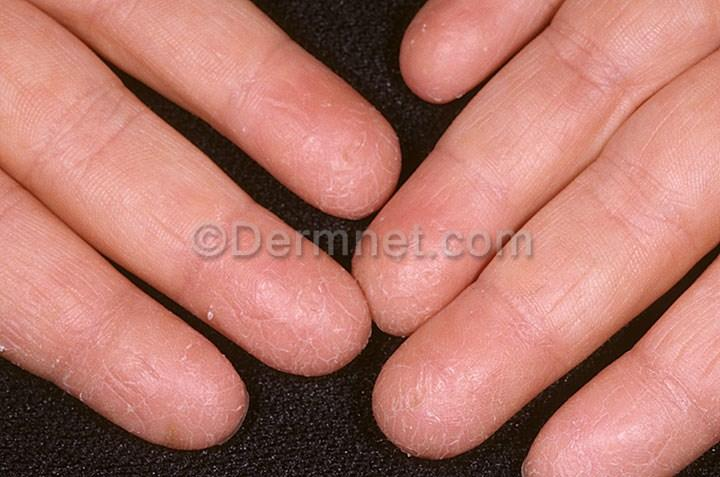Eczema: (156, 358, 260, 441), (268, 279, 362, 369), (374, 366, 462, 451)
